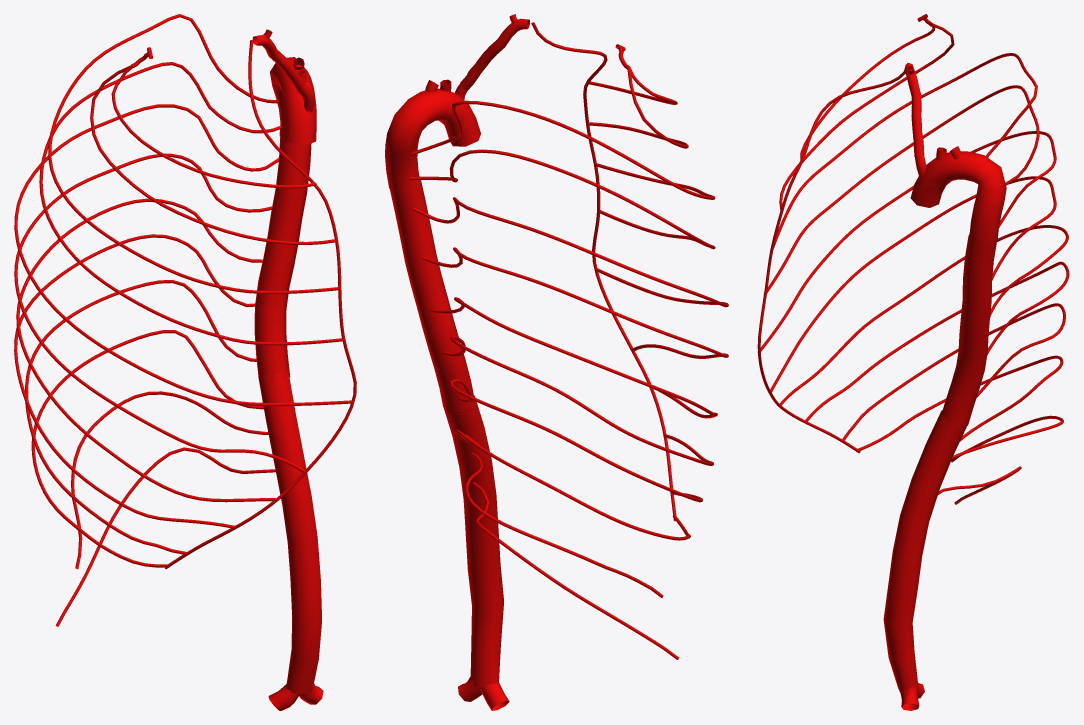
Rendered from Thorax arteries.fbx.
3 renders of one model, left to right at view 1: azimuth 30°, elevation 25°; view 2: azimuth 150°, elevation 25°; view 3: azimuth 270°, elevation 25°, orthographic. The views are drawn at different scales.
Visible parts, largest first — view 1: Intercostal_3to10, Aorta_descending__abdominal, Aorta_descending_thoracic, Aortic_arch, Internal_thoracic_mammary, Second_intercostal, Intercostal_11, Subcostal, First_intercostal, Brachiocephalic_trunk_innominate, Musculophrenic; view 2: Intercostal_3to10, Aorta_descending__abdominal, Aorta_descending_thoracic, Aortic_arch, Internal_thoracic_mammary, Brachiocephalic_trunk_innominate, Subcostal, Intercostal_11, Musculophrenic, Second_intercostal; view 3: Intercostal_3to10, Aorta_descending__abdominal, Aorta_descending_thoracic, Aortic_arch, Internal_thoracic_mammary, Brachiocephalic_trunk_innominate, Second_intercostal, Intercostal_11, First_intercostal.
Part boxes in pixels (bbox=[...]): Intercostal_3to10: bbox=[14, 14, 353, 567]; Aorta_descending__abdominal: bbox=[258, 372, 323, 710]; Aorta_descending_thoracic: bbox=[254, 137, 311, 382]; Aortic_arch: bbox=[270, 57, 316, 144]; Internal_thoracic_mammary: bbox=[248, 40, 356, 440]; Second_intercostal: bbox=[90, 65, 337, 244]; Intercostal_11: bbox=[71, 391, 268, 569]; Subcostal: bbox=[55, 447, 275, 626]; First_intercostal: bbox=[111, 65, 316, 188]; Brachiocephalic_trunk_innominate: bbox=[252, 29, 311, 97]; Musculophrenic: bbox=[164, 439, 333, 569]; Intercostal_3to10: bbox=[410, 100, 728, 540]; Aorta_descending__abdominal: bbox=[443, 395, 509, 710]; Aorta_descending_thoracic: bbox=[390, 180, 474, 414]; Aortic_arch: bbox=[385, 79, 480, 191]; Internal_thoracic_mammary: bbox=[531, 22, 613, 310]; Brachiocephalic_trunk_innominate: bbox=[460, 14, 529, 89]; Subcostal: bbox=[471, 482, 679, 659]; Intercostal_11: bbox=[465, 453, 663, 597]; Musculophrenic: bbox=[612, 314, 676, 521]; Second_intercostal: bbox=[587, 67, 688, 148]; Intercostal_3to10: bbox=[757, 53, 1069, 451]; Aorta_descending__abdominal: bbox=[883, 410, 966, 710]; Aorta_descending_thoracic: bbox=[940, 234, 997, 428]; Aortic_arch: bbox=[910, 146, 1006, 246]; Internal_thoracic_mammary: bbox=[757, 63, 908, 377]; Brachiocephalic_trunk_innominate: bbox=[904, 63, 924, 156]; Second_intercostal: bbox=[779, 23, 954, 210]; Intercostal_11: bbox=[951, 415, 1063, 462]; First_intercostal: bbox=[800, 26, 935, 159].
Size of the model in its own units: 16.96 by 37.39 by 16.8.
